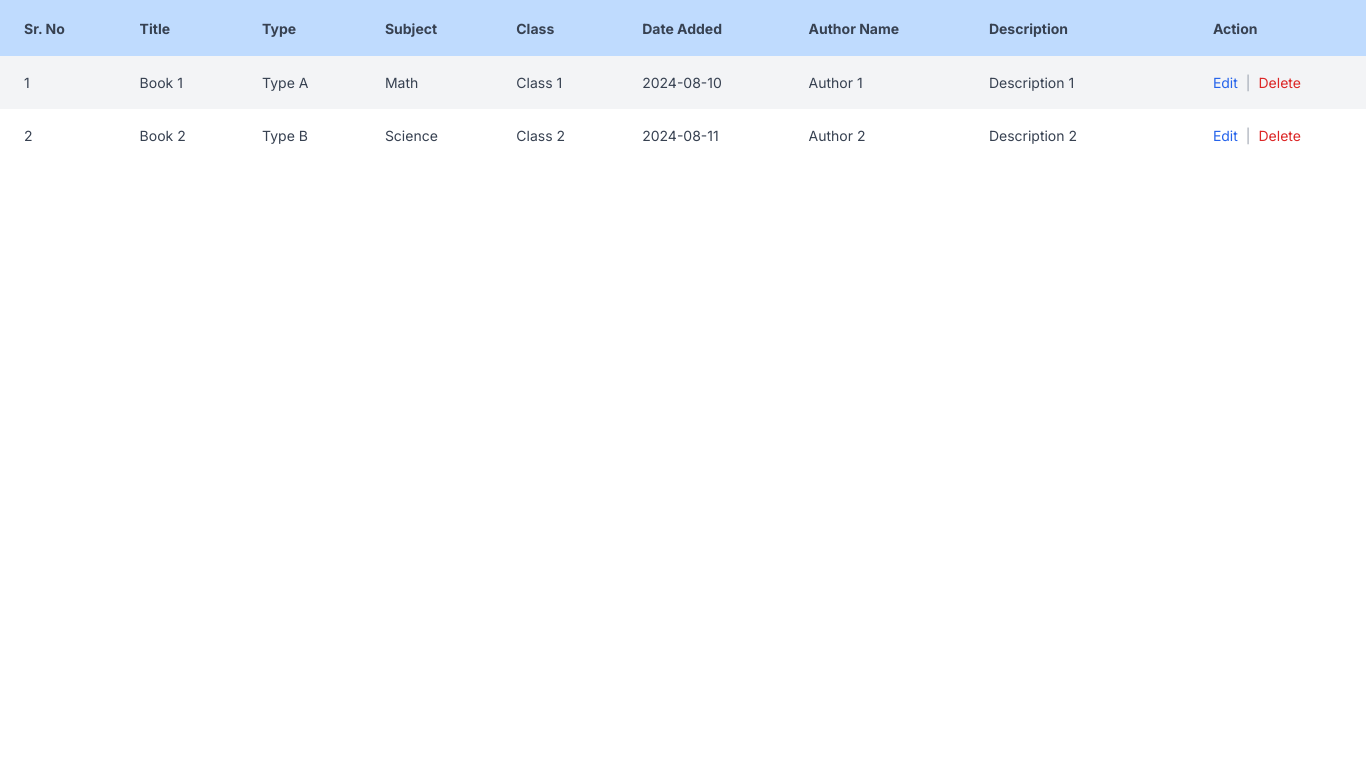
Test: LibraryTable Component › opens and closes the delete confirmation modal
expect the text "Book 1" is shown: met, box [116, 56, 238, 109]
Note: Open delete confirmation
Click the button "Delete" in the row of "Book 1".
click(1280, 82)  # box [1258, 72, 1301, 93]
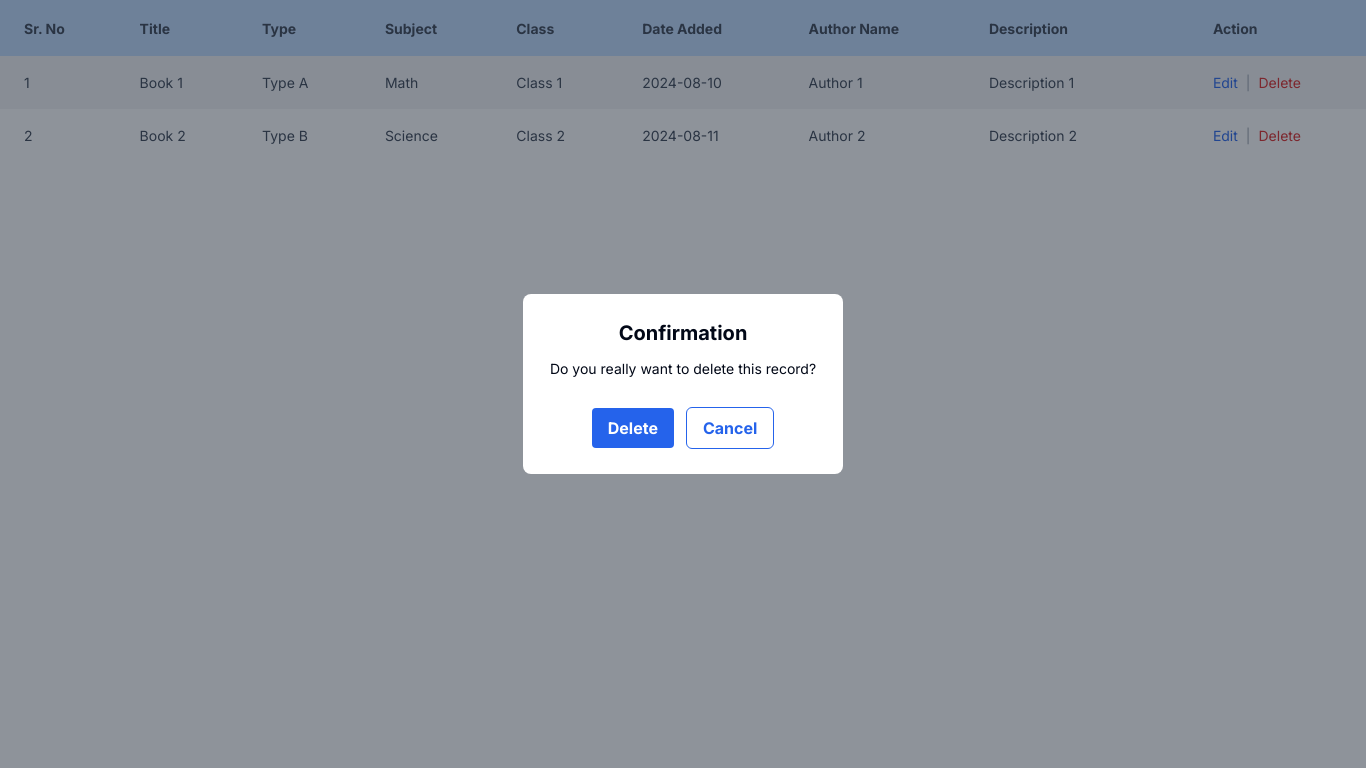
expect the heading "Do you really want to delete this record?" is shown: met, box [550, 359, 816, 379]
Note: Close delete confirmation
Click the button "Cancel".
click(730, 428)  # box [686, 407, 774, 449]
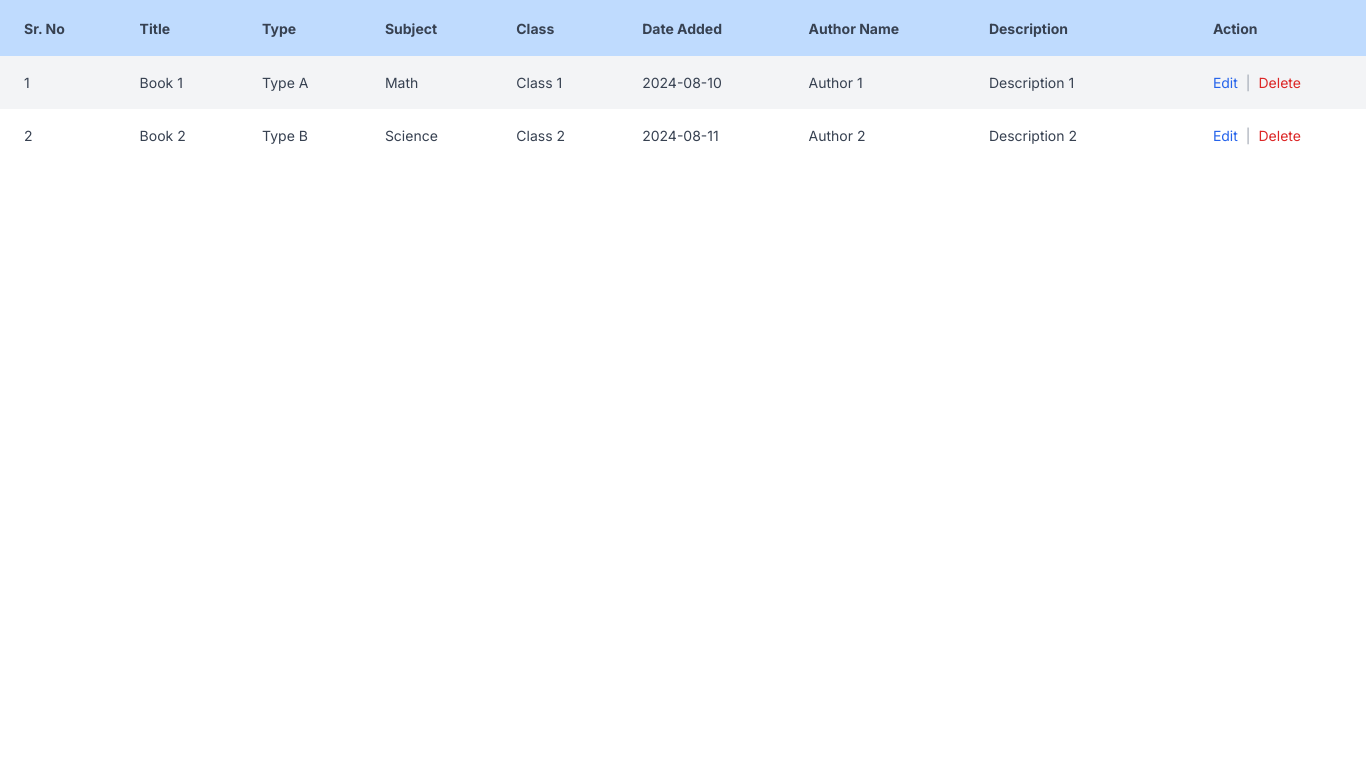
expect the heading "Do you really want to delete this record?" is gone: met
